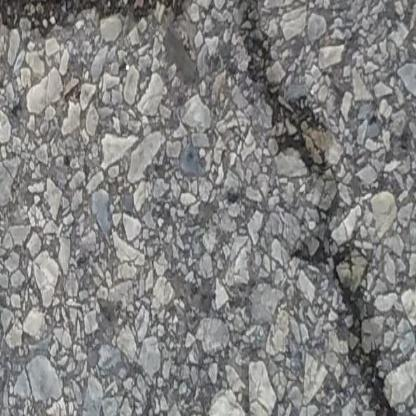Cracks: (0, 0, 340, 174), (298, 232, 416, 416)
